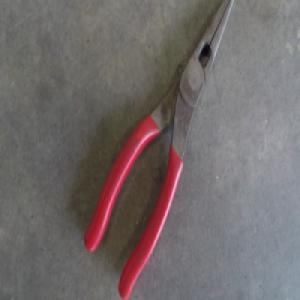Pliers: (83, 4, 233, 293)
